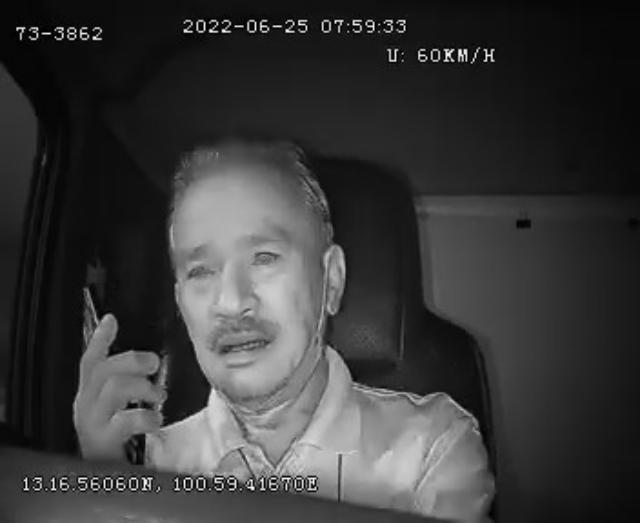PhoneUse: (74, 280, 150, 474)
SafeDriving: (178, 249, 225, 289), (242, 235, 290, 273)
